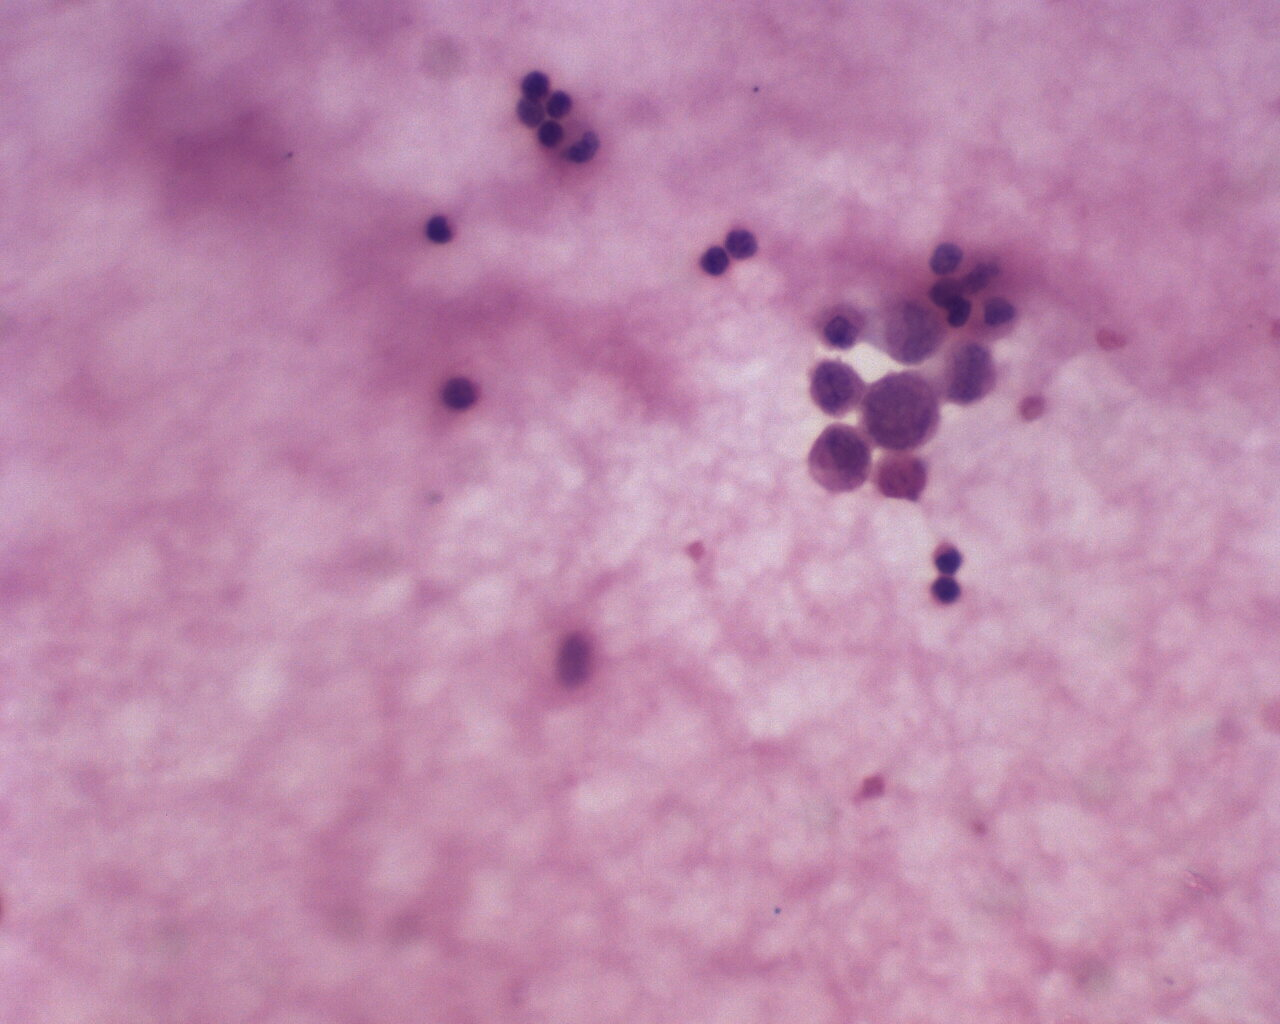ab: (859, 373, 947, 453), (807, 422, 872, 498), (878, 294, 947, 366), (939, 340, 999, 410), (807, 351, 866, 420)
lymph: (698, 245, 735, 283), (929, 573, 965, 607), (537, 114, 569, 152), (423, 211, 457, 245)
